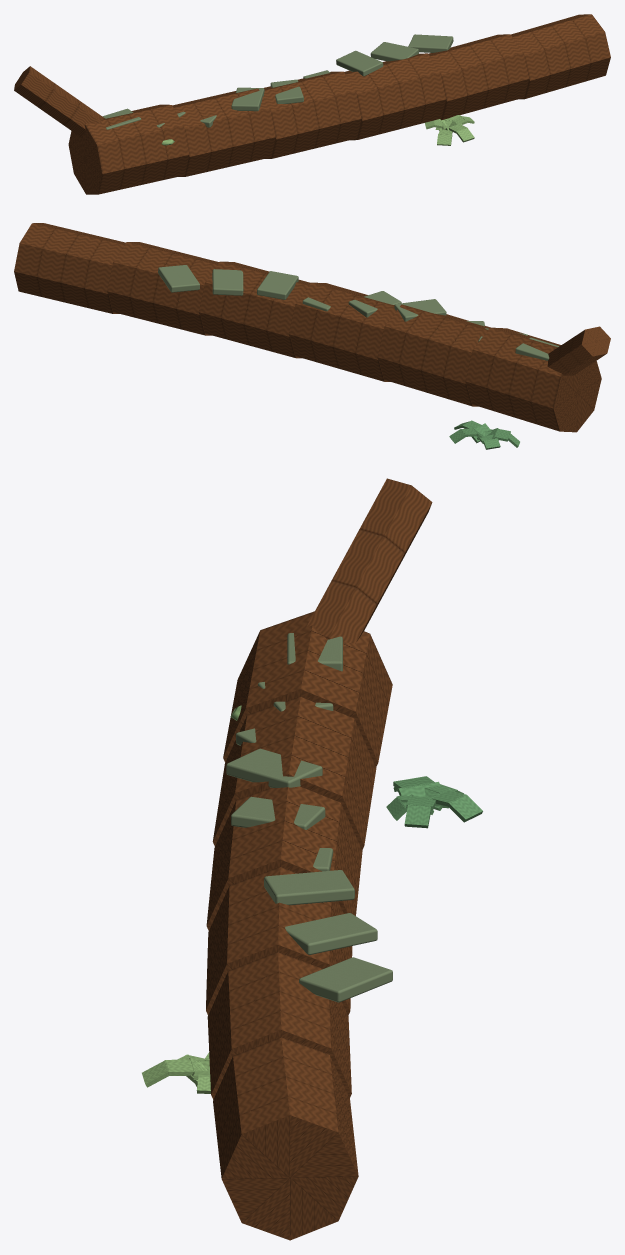
File: fallen_rainforest_log.glb
3 renders of one model, top to bottom at view 1: azimuth 30°, elevation 25°; view 2: azimuth 150°, elevation 25°; view 3: azimuth 270°, elevation 25°, orthographic. The views are drawn at different scales.
Visible parts, largest first — view 1: fallen-log; view 2: fallen-log; view 3: fallen-log.
Boxes of the visible parts, left/top/right/bottom form: fallen-log: left=14, top=14, right=610, bottom=194; fallen-log: left=14, top=223, right=610, bottom=449; fallen-log: left=142, top=478, right=482, bottom=1240.
Bounding box in the file's own units: 6.87 × 1.45 × 1.84.
Materials: 4 (4 with a texture image).
